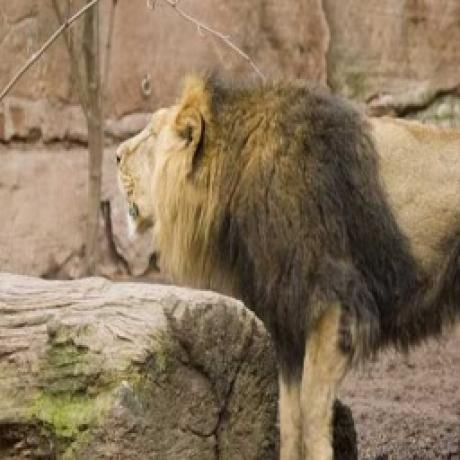Lion: (109, 68, 460, 357)
